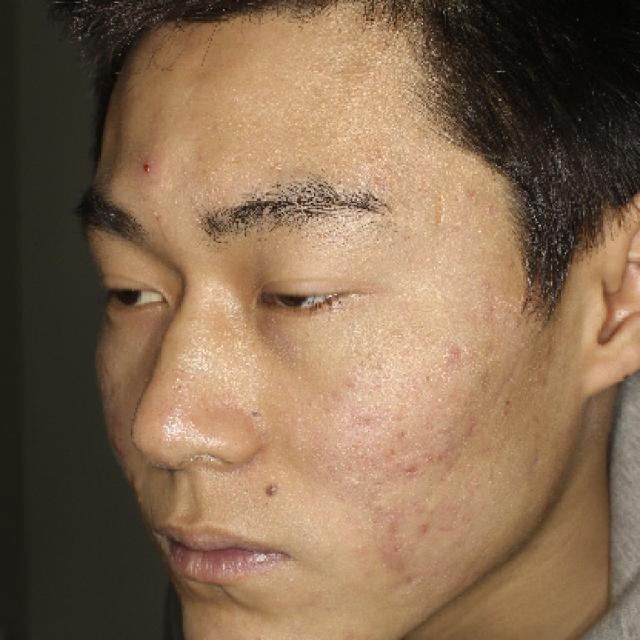Blackheads: (134, 155, 161, 180)
